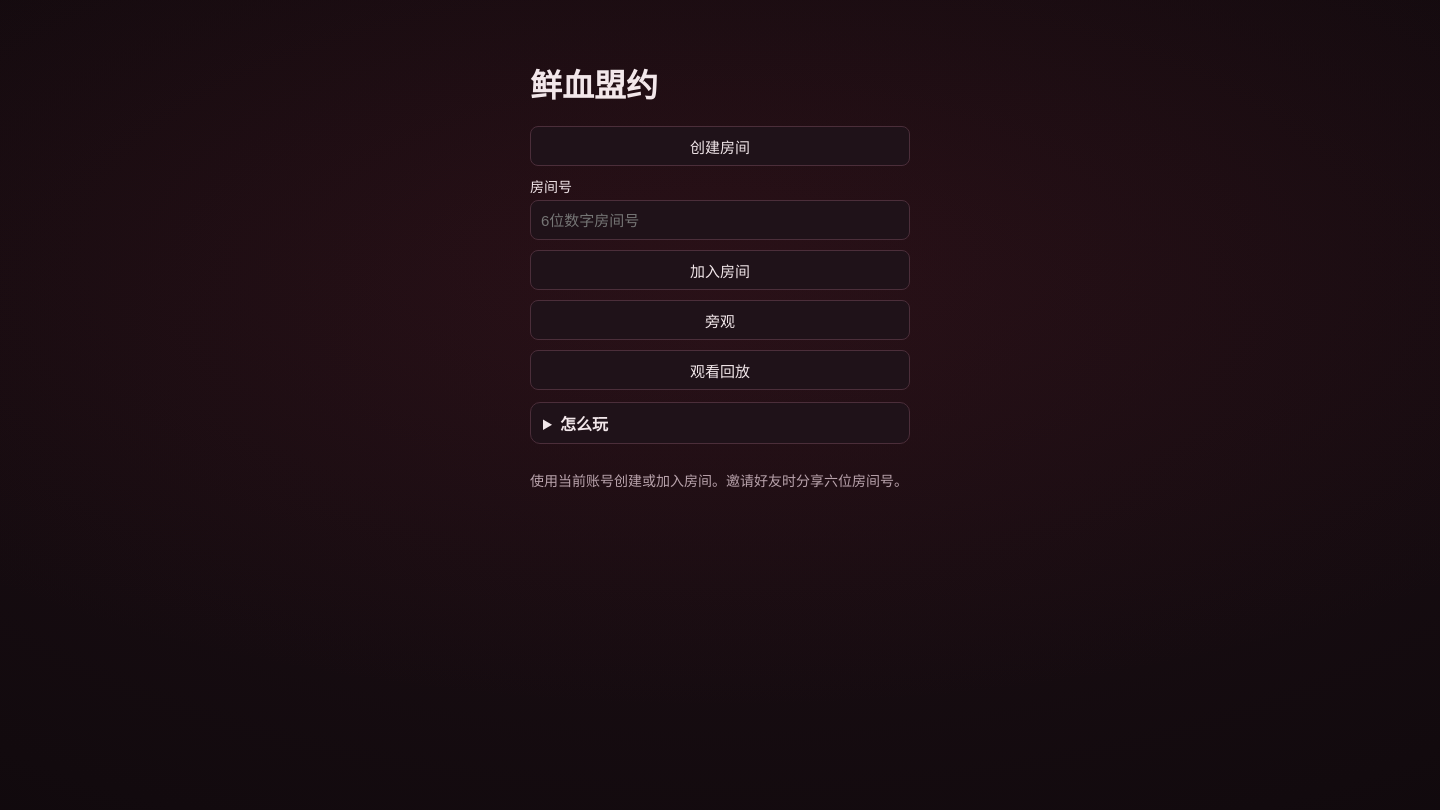
Test: 大厅怎么玩折叠块 › 展开后渲染简介与指路句，不含等级表与图例内容
Expected: the element with class "how-to" is shown, [530,402,910,444]
Click the heading "怎么玩" at (584, 424), box [560,413,608,435]
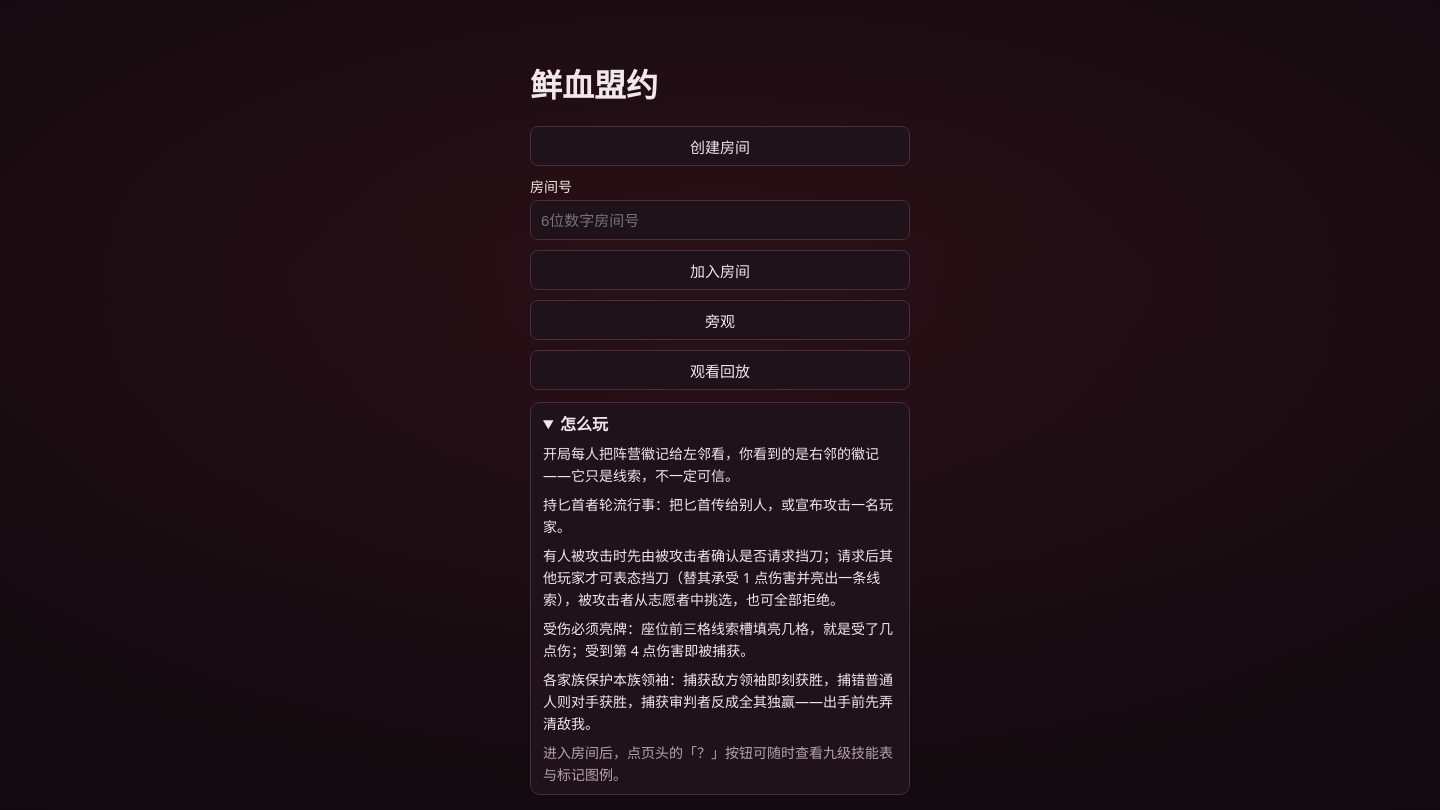
Expected: the text "开局每人把阵营徽记给左邻看，你看到的是右邻的徽记——它只是线索，不一定可信。" is shown, [543,443,897,488]
Expected: the text "持匕首者轮流行事：把匕首传给别人，或宣布攻击一名玩家。" is shown, [543,494,897,539]
Expected: the text "有人被攻击时先由被攻击者确认是否请求挡刀；请求后其他玩家才可表态挡刀（替其承受 1 点伤害并亮出一条线索），被攻击者从志愿者中挑选，也可全部拒绝。" is shown, [543,545,897,612]
